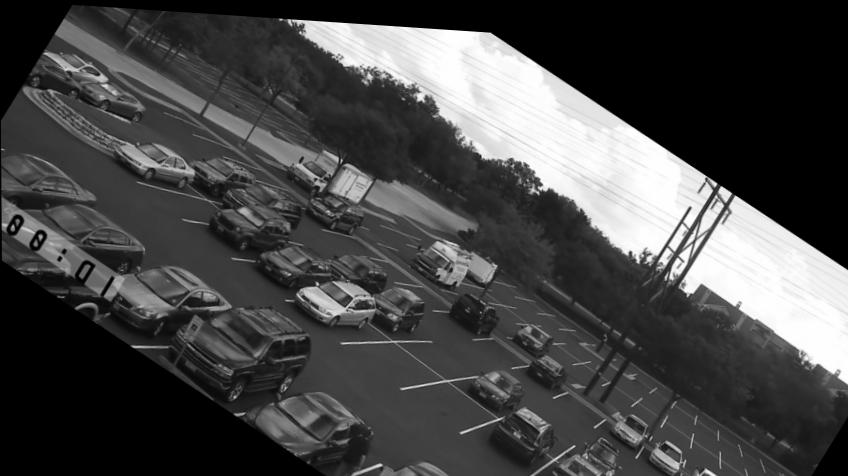empty: (340, 333, 434, 379), (413, 377, 494, 421), (139, 185, 219, 220), (413, 333, 479, 370), (550, 382, 607, 422), (179, 116, 229, 145), (535, 401, 576, 434), (326, 227, 380, 252), (369, 252, 419, 278), (476, 333, 525, 359), (207, 139, 252, 162), (658, 411, 691, 441), (406, 276, 447, 300), (687, 429, 718, 459), (242, 161, 284, 183), (599, 376, 639, 399), (630, 394, 664, 420), (385, 222, 428, 242), (569, 355, 608, 377), (636, 385, 667, 411), (585, 351, 620, 374), (290, 225, 328, 246), (720, 449, 748, 476), (760, 448, 787, 476), (691, 420, 719, 446), (647, 377, 678, 400), (489, 297, 524, 317), (665, 402, 693, 427), (612, 370, 643, 391), (561, 334, 594, 353), (551, 336, 582, 356), (463, 278, 499, 295), (690, 443, 719, 464), (672, 389, 696, 414), (510, 297, 541, 316), (629, 365, 658, 384), (538, 317, 570, 334), (626, 460, 659, 476), (720, 439, 744, 461), (745, 456, 771, 476), (486, 281, 517, 297), (563, 320, 597, 334), (695, 406, 717, 427), (494, 306, 515, 327), (498, 276, 527, 290), (719, 422, 737, 443), (539, 307, 569, 319), (742, 436, 758, 458), (519, 292, 547, 304), (561, 358, 580, 374), (748, 467, 762, 476)
occupied: (152, 303, 307, 398), (238, 383, 386, 461), (87, 265, 234, 327), (1, 203, 144, 265), (291, 275, 375, 331), (480, 399, 556, 459), (1, 153, 94, 201), (341, 439, 461, 476), (214, 199, 291, 253), (112, 140, 195, 187), (250, 241, 330, 285), (303, 181, 364, 232), (409, 234, 471, 283), (233, 179, 301, 221), (78, 79, 145, 121), (463, 363, 523, 407), (444, 286, 500, 332), (25, 54, 82, 99), (540, 441, 611, 476), (192, 154, 254, 194), (374, 281, 425, 329), (329, 248, 387, 289), (523, 348, 568, 383), (586, 430, 620, 472), (512, 316, 553, 350), (609, 406, 647, 441), (647, 432, 681, 468), (687, 457, 722, 476)
